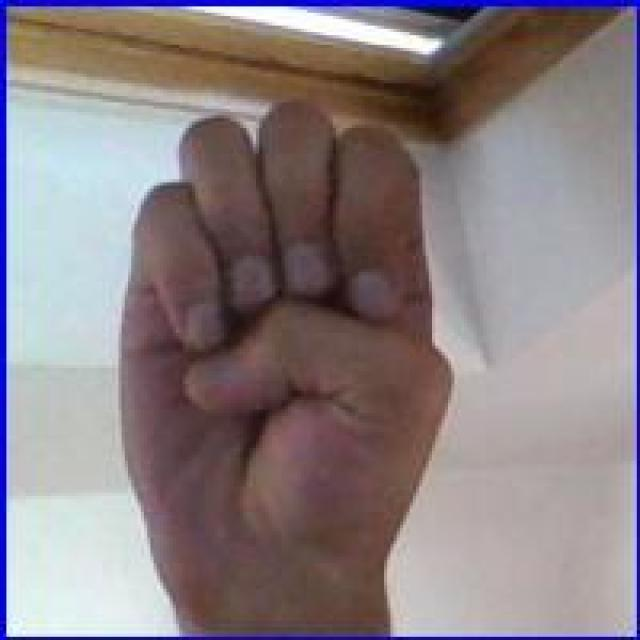E: (115, 93, 458, 624)
